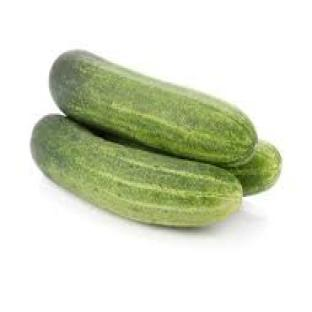Cucumber: (50, 51, 256, 165), (31, 116, 241, 226), (228, 141, 281, 195)
